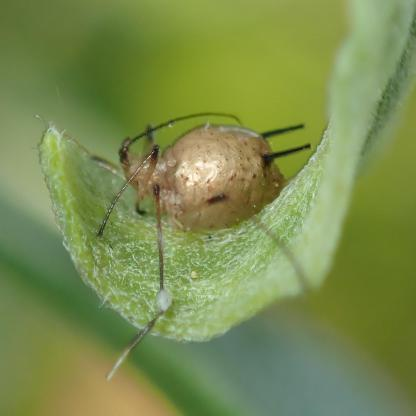aphid: (97, 114, 313, 293)
